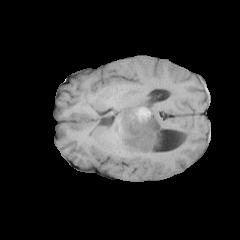glioma: (98, 103, 167, 158)
